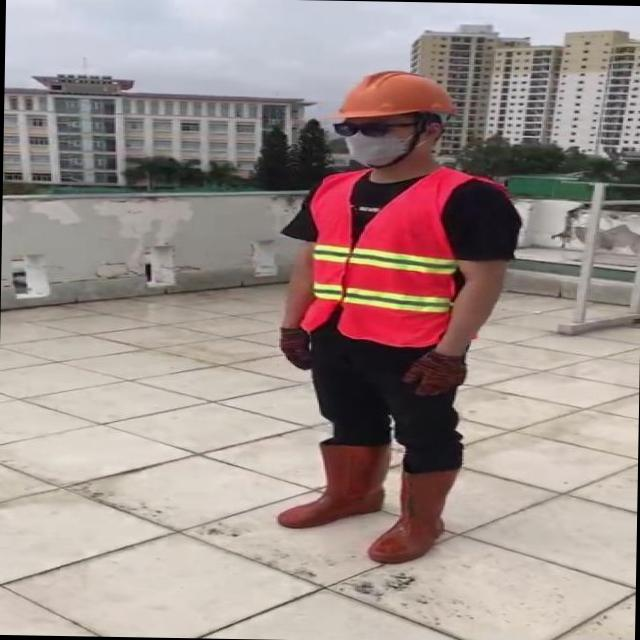boots: (275, 440, 389, 529), (365, 468, 456, 566)
gloves: (403, 328, 481, 408), (255, 309, 332, 381)
helmet: (328, 64, 455, 124)
vest: (302, 166, 468, 344)
